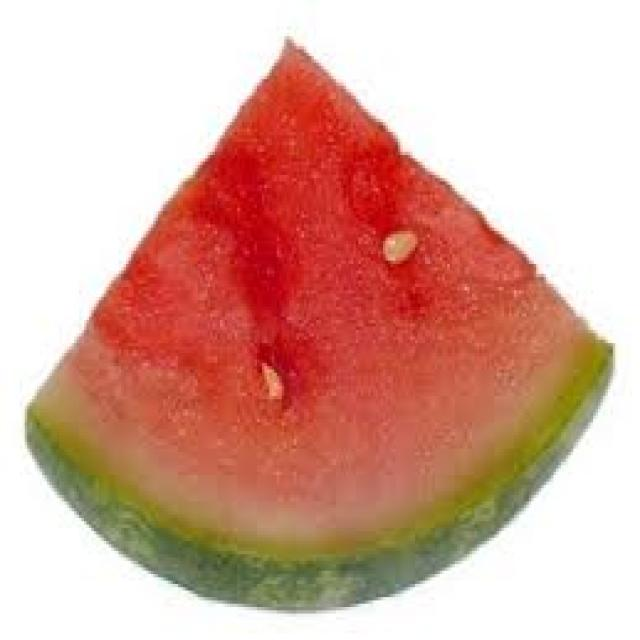watermelon: (25, 29, 620, 614)
